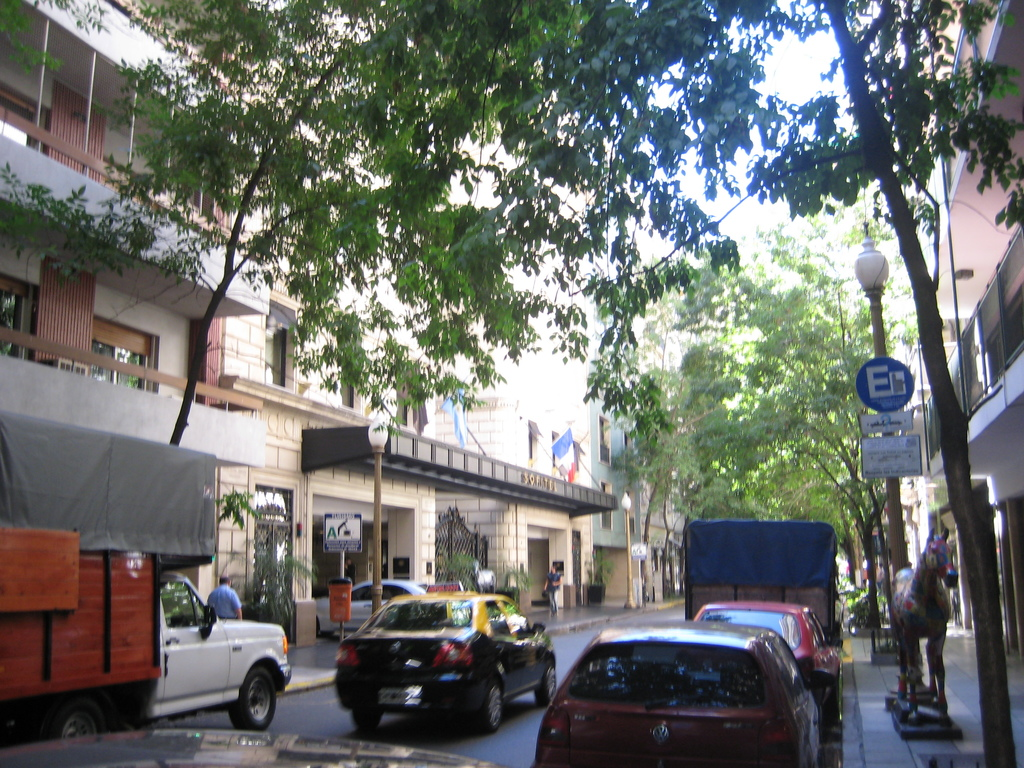Car: (527, 614, 831, 767), (330, 583, 560, 739), (675, 594, 839, 709)
